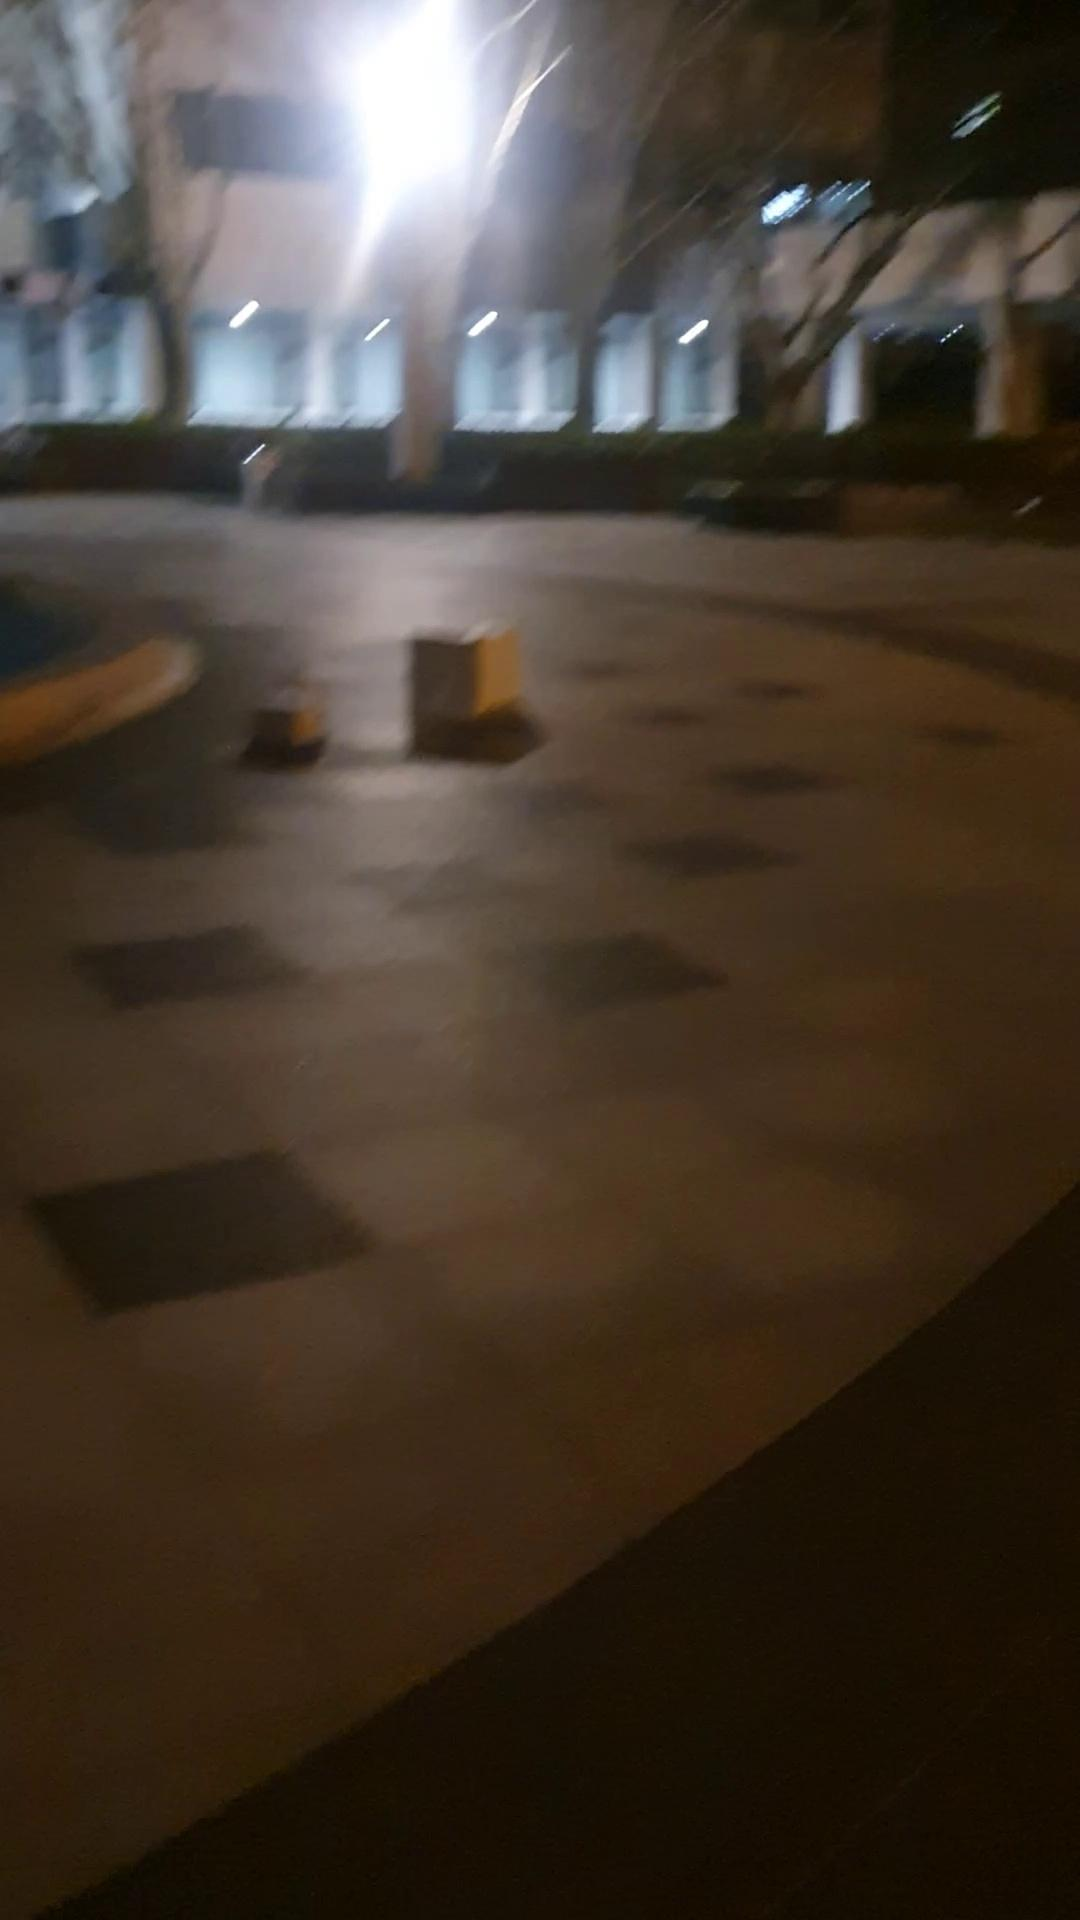Box: (411, 615, 518, 732), (241, 680, 330, 770)
